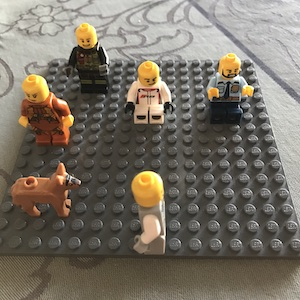Lego: (16, 72, 75, 149), (126, 170, 169, 255), (203, 52, 255, 121), (123, 61, 171, 129), (67, 21, 111, 95)
